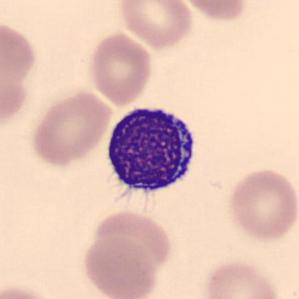Lymphocyte: (98, 98, 202, 207)
RBC: (29, 89, 114, 168), (86, 208, 174, 278), (227, 166, 297, 242), (79, 233, 158, 299), (87, 31, 154, 106), (0, 17, 39, 130), (117, 0, 195, 50), (203, 258, 284, 299), (177, 0, 250, 23), (0, 281, 63, 299)
